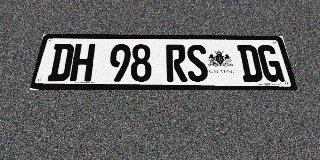8: (130, 44, 152, 82)
9: (108, 44, 131, 81)
D: (47, 44, 75, 81), (237, 45, 264, 82)
G: (256, 45, 285, 82)
H: (69, 44, 96, 81)
R: (166, 44, 188, 82)
S: (186, 45, 209, 82)
